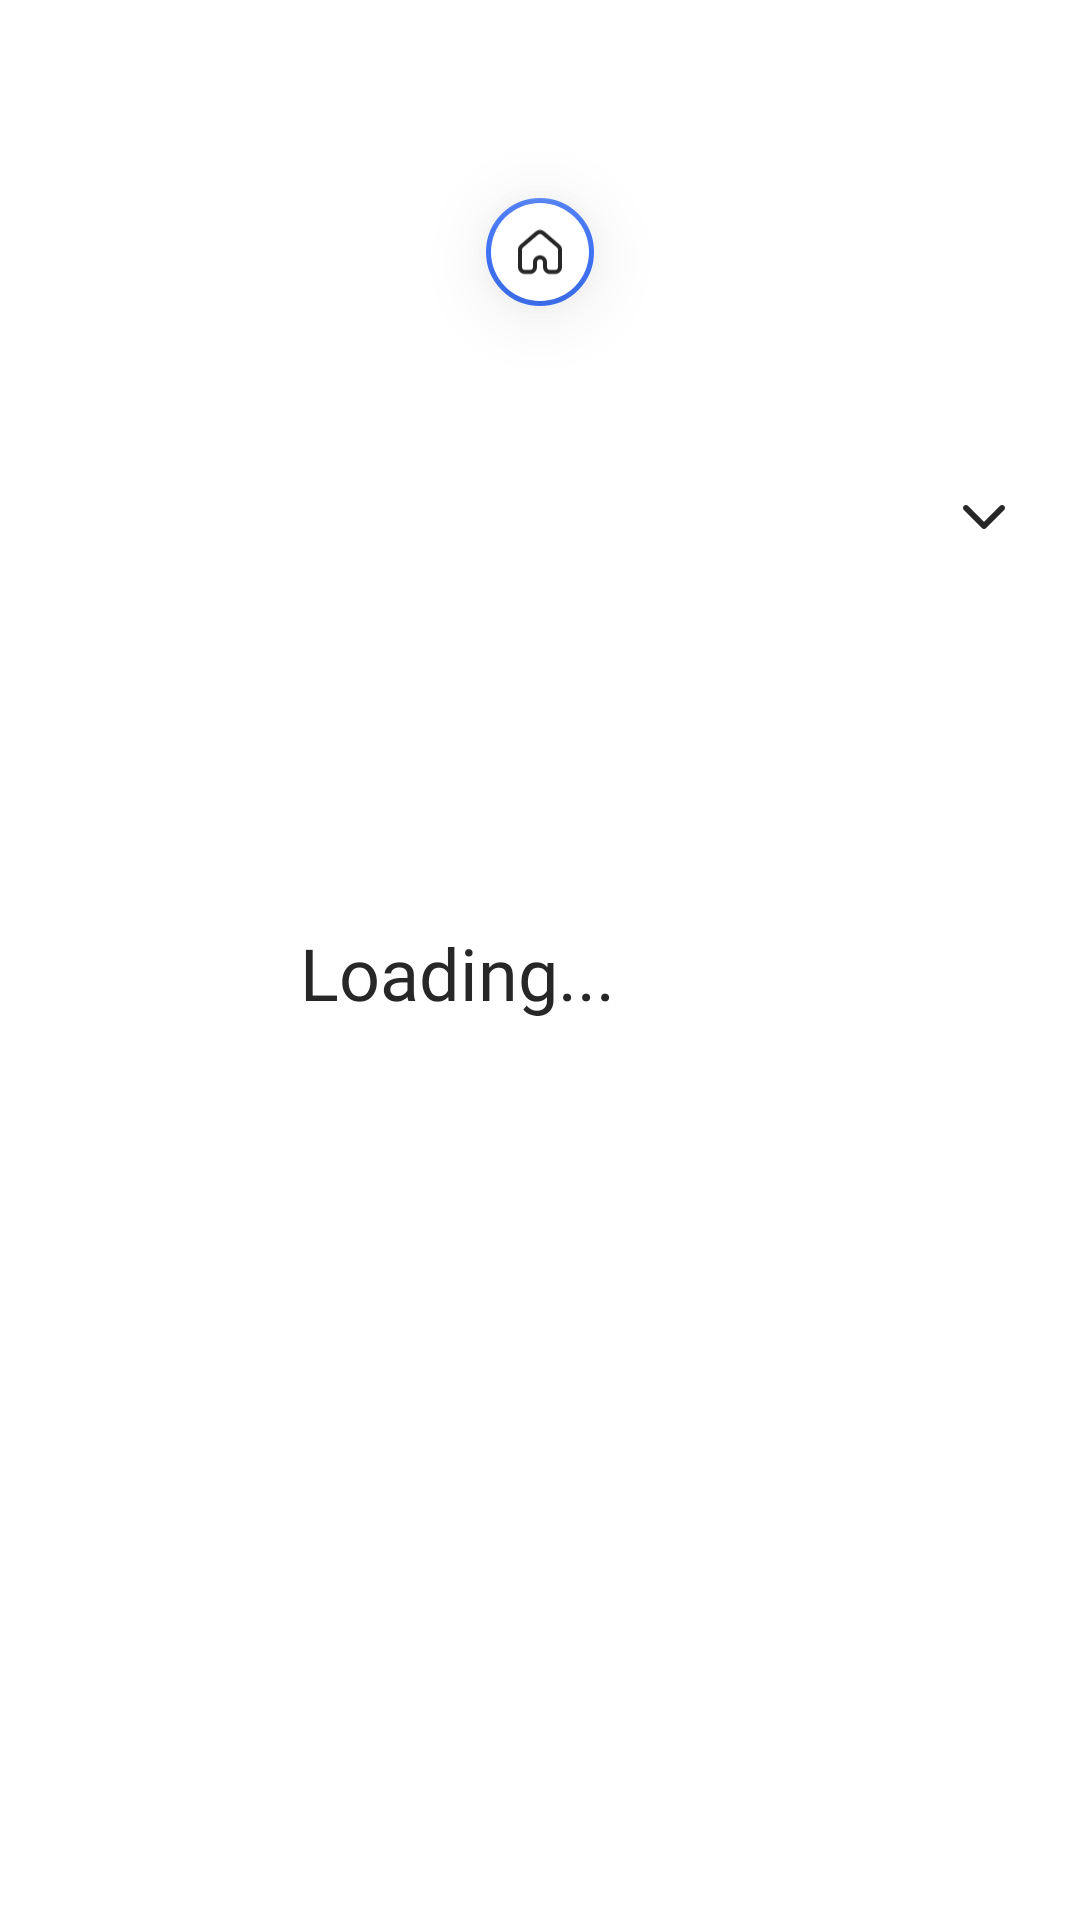

Screen size 1080×1920. Icon name, then its box in pixels as Rect(x1, y1, x2, y2):
arrow more: Rect(963, 505, 1005, 529)
